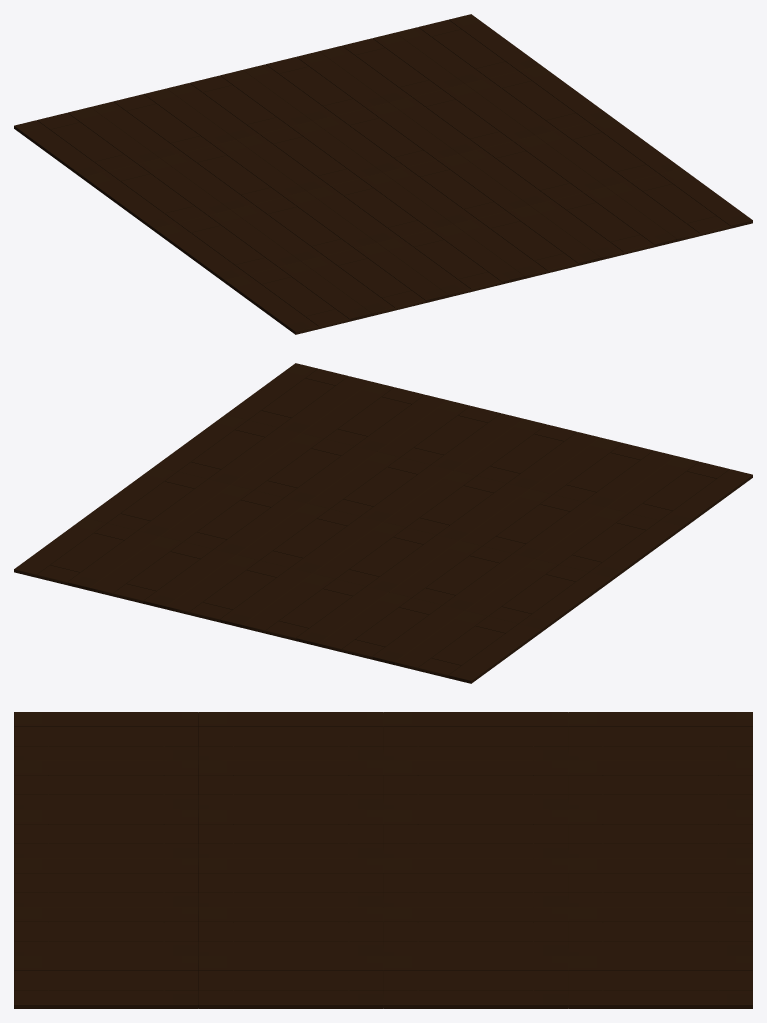
File: ground.fbx
3 views of the same model, one above another, from view 1: azimuth 30°, elevation 25°; view 2: azimuth 150°, elevation 25°; view 3: azimuth 270°, elevation 25° (orthographic). The views are drawn at different scales.
Parts seen in each view (by area): view 1: Table.001; view 2: Table.001; view 3: Table.001.
Boxes of the visible parts, x1,y1,x2,y2 form: Table.001: (14,14,752,334); Table.001: (14,363,752,683); Table.001: (14,712,752,1008).
Size of the model in its own units: 2304 by 15.36 by 2458.
